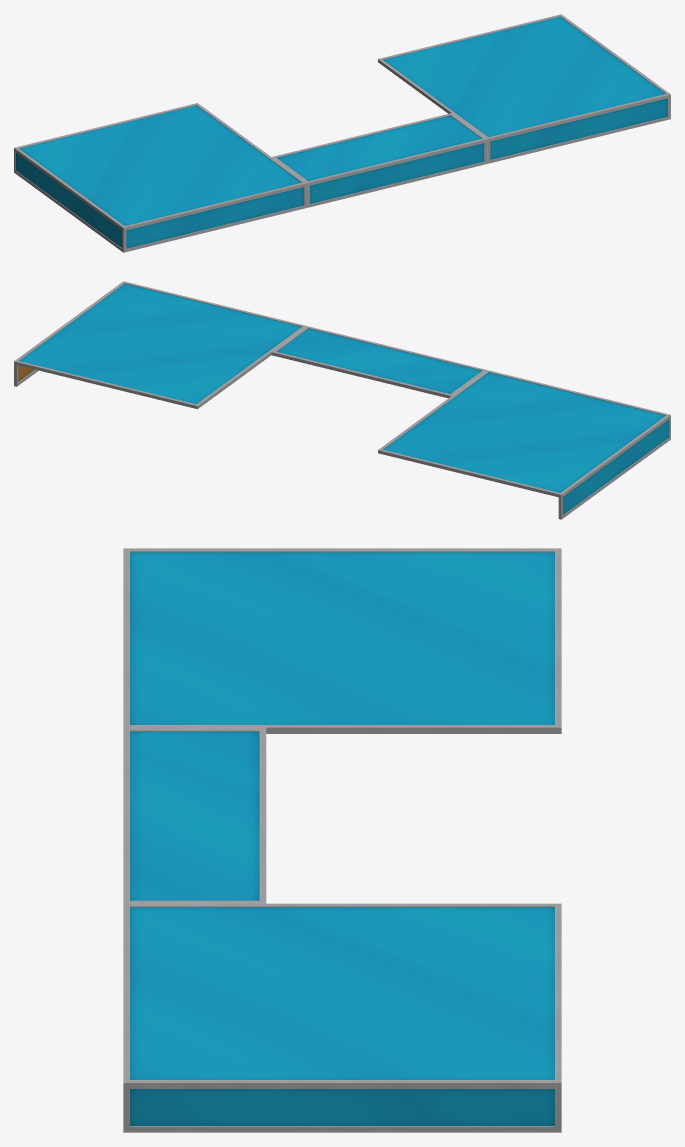
The model's file is jsf_2P_s03_c02_t02_DX.fbx.
3 renders of one model, top to bottom at view 1: azimuth 30°, elevation 25°; view 2: azimuth 150°, elevation 25°; view 3: azimuth 270°, elevation 25°, orthographic. The views are drawn at different scales.
Visible parts, largest first — view 1: jsf_2P_s03_c02_t02_DX; view 2: jsf_2P_s03_c02_t02_DX; view 3: jsf_2P_s03_c02_t02_DX.
Boxes of the visible parts, x1,y1,x2,y2 form: jsf_2P_s03_c02_t02_DX: (14, 14, 670, 252); jsf_2P_s03_c02_t02_DX: (14, 281, 670, 519); jsf_2P_s03_c02_t02_DX: (123, 548, 561, 1132).
Bounding box in the file's own units: 289 × 12.51 × 100.
